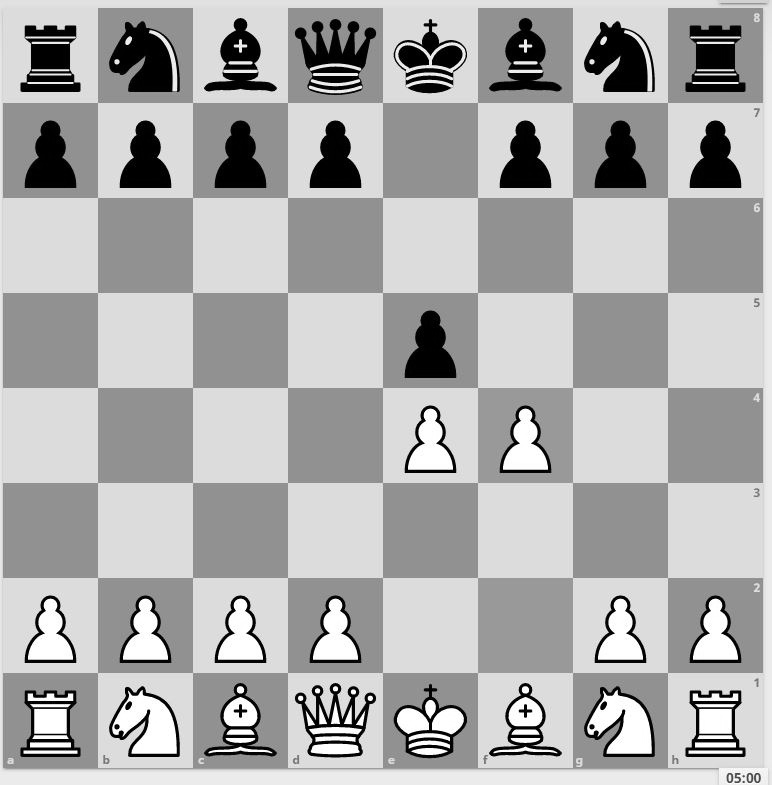bishop: (479, 667, 575, 761), (196, 667, 291, 761), (481, 5, 574, 95), (198, 1, 288, 93)
king: (389, 4, 480, 97), (388, 668, 480, 759)
knight: (102, 667, 196, 761), (575, 668, 667, 763), (101, 3, 195, 95), (576, 2, 665, 95)
pawn: (477, 388, 574, 485), (479, 96, 575, 192), (291, 572, 387, 667), (4, 574, 100, 667), (102, 97, 195, 193), (199, 96, 291, 193), (575, 571, 670, 664), (670, 572, 766, 664), (5, 100, 99, 193), (292, 98, 384, 193), (385, 293, 477, 388), (386, 383, 479, 476), (579, 97, 670, 192), (103, 572, 195, 664), (196, 575, 292, 663), (671, 99, 763, 189)
queen: (291, 5, 386, 97), (294, 668, 386, 758)
rook: (4, 667, 102, 763), (669, 665, 763, 759), (670, 5, 765, 97), (6, 5, 98, 93)
